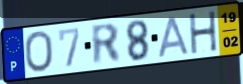7: (56, 27, 82, 70)
8: (123, 18, 150, 62)
A: (157, 15, 191, 59)
H: (187, 10, 219, 56)
O: (23, 29, 55, 74)
R: (90, 22, 123, 67)
